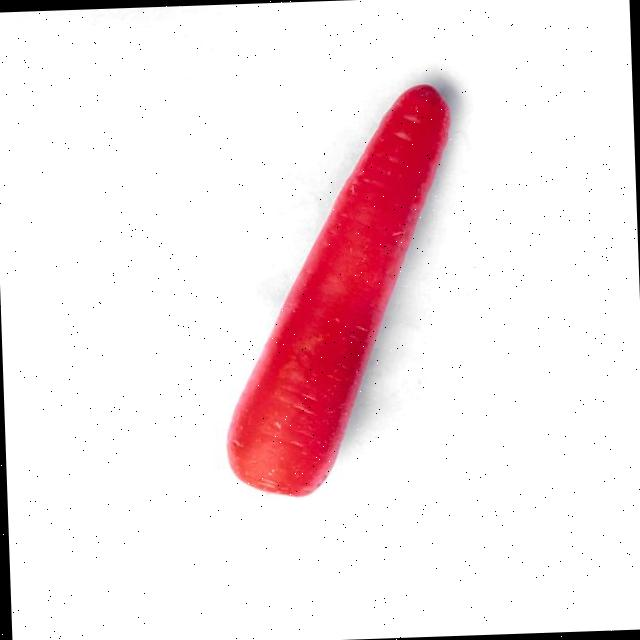carrot: (226, 85, 446, 494)
